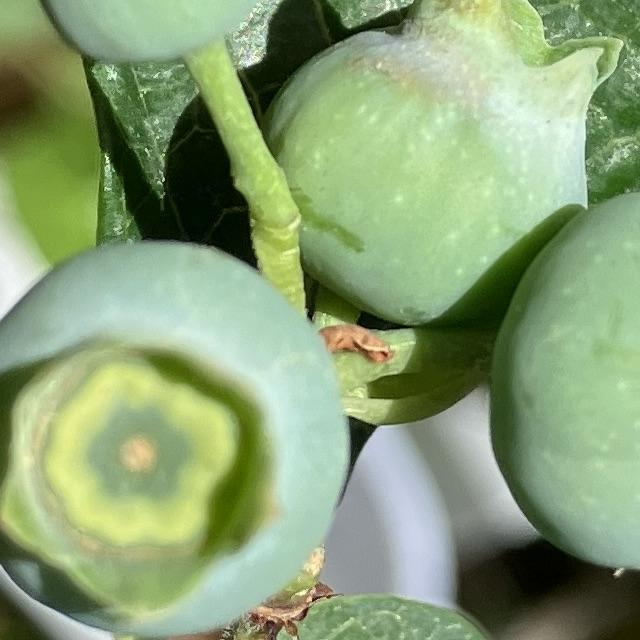Blueberries: (484, 185, 640, 631)
